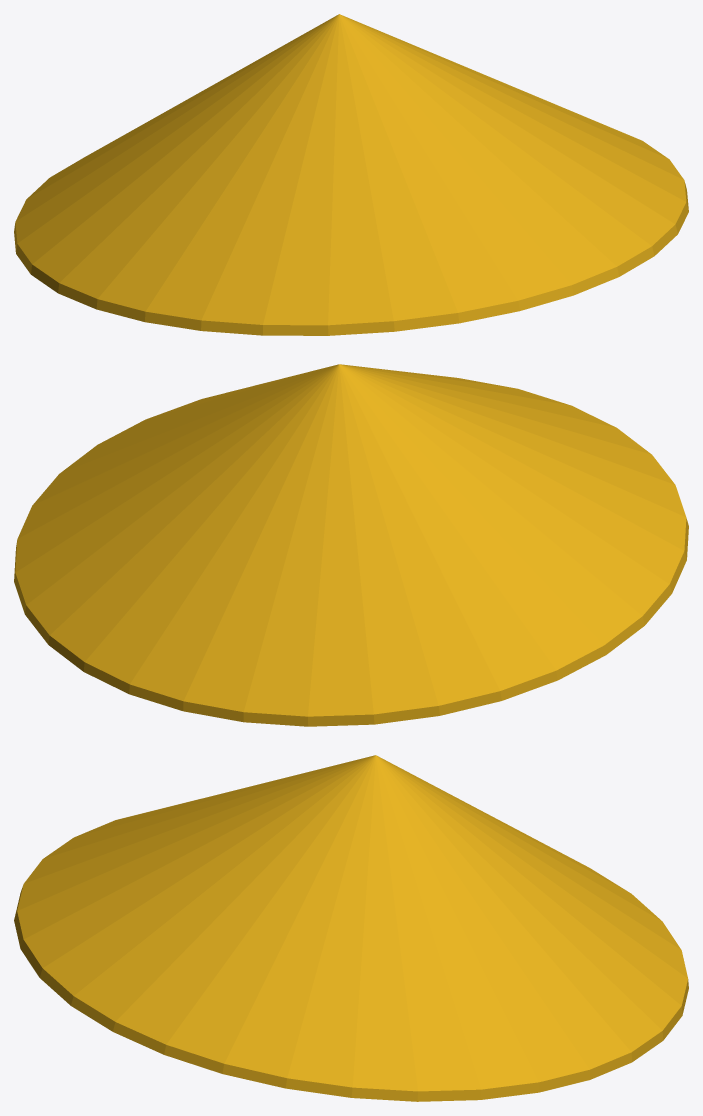
The model's file is samuriehat.glb.
3 views of the same model, one above another, from view 1: azimuth 30°, elevation 25°; view 2: azimuth 150°, elevation 25°; view 3: azimuth 270°, elevation 25° (orthographic).
Parts seen in each view (by area): view 1: samuriehat; view 2: samuriehat; view 3: samuriehat.
Boxes of the visible parts, bbox=[...] form: samuriehat: bbox=[14, 14, 688, 335]; samuriehat: bbox=[14, 364, 688, 726]; samuriehat: bbox=[14, 755, 688, 1101].
Bounding box in the file's own units: 3.3 × 1.25 × 3.28.
